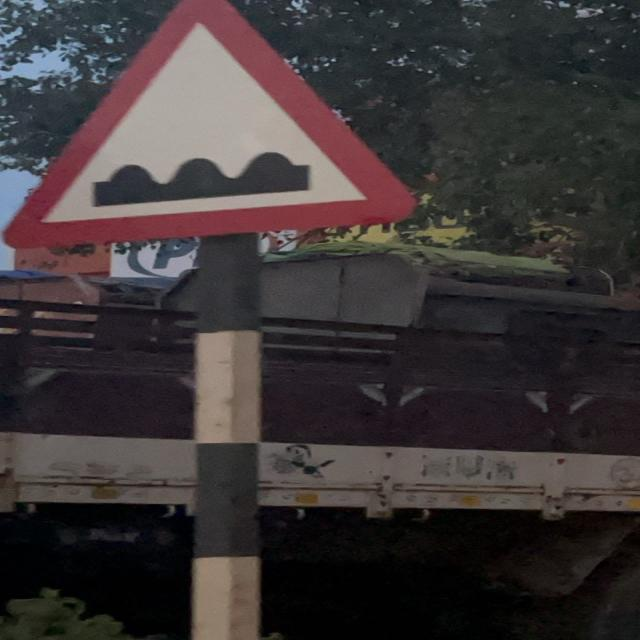hump or rough road: (11, 10, 418, 249)
